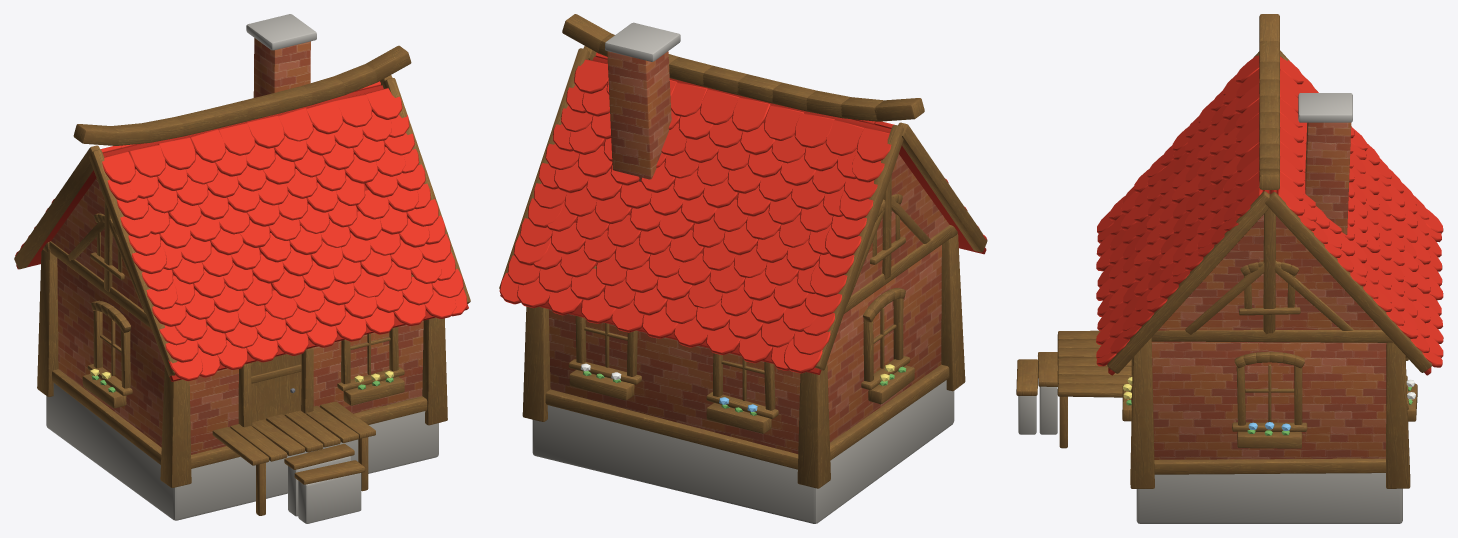
Rendered from cottage_red.gltf.
3 renders of one model, left to right at view 1: azimuth 30°, elevation 25°; view 2: azimuth 150°, elevation 25°; view 3: azimuth 270°, elevation 25°, orthographic. The views are drawn at different scales.
Visible parts, largest first — view 1: cottage_red; view 2: cottage_red; view 3: cottage_red.
Part boxes in pixels (left/top/right/bottom): cottage_red: left=14, top=14, right=470, bottom=523; cottage_red: left=499, top=14, right=987, bottom=523; cottage_red: left=1016, top=14, right=1443, bottom=523.
Size of the model in its own units: 6.45 by 7.08 by 7.05.
Materials: 12 (2 with a texture image).
